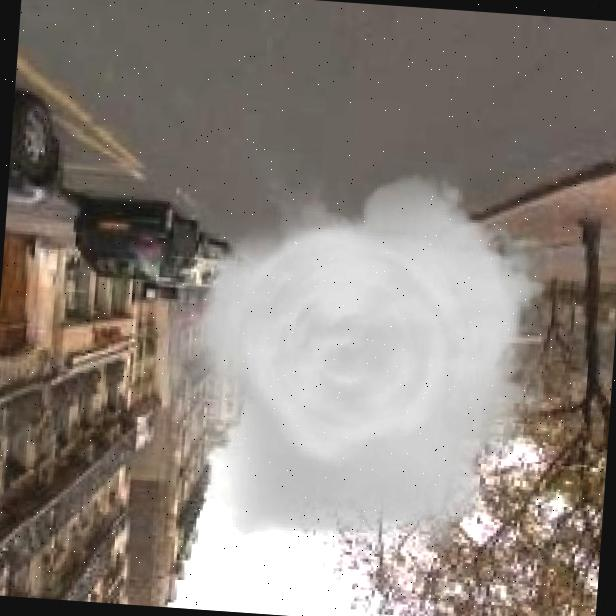smoke: (146, 144, 558, 578)
